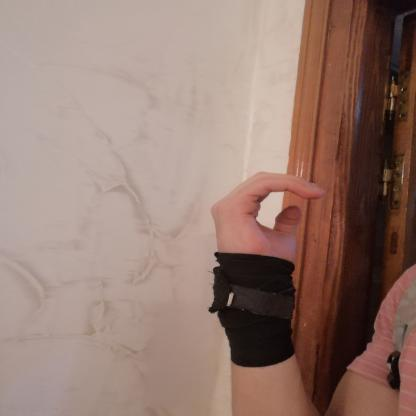JEEM: (192, 162, 352, 284)
